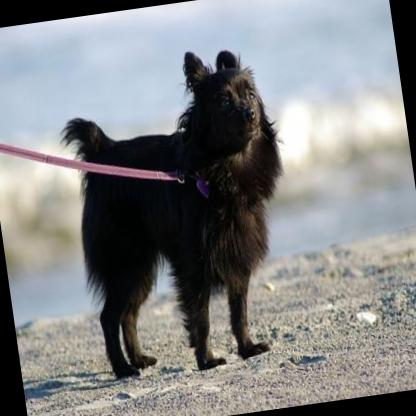Pomeranian: (49, 38, 313, 382)
